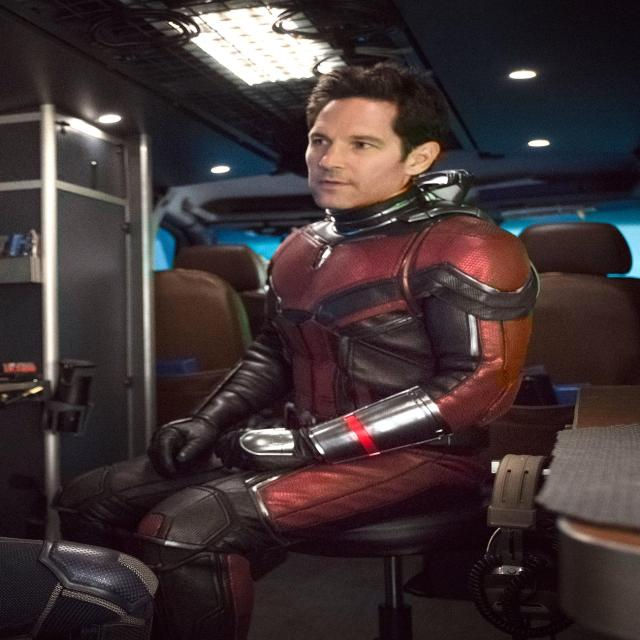human: (50, 41, 560, 640)
